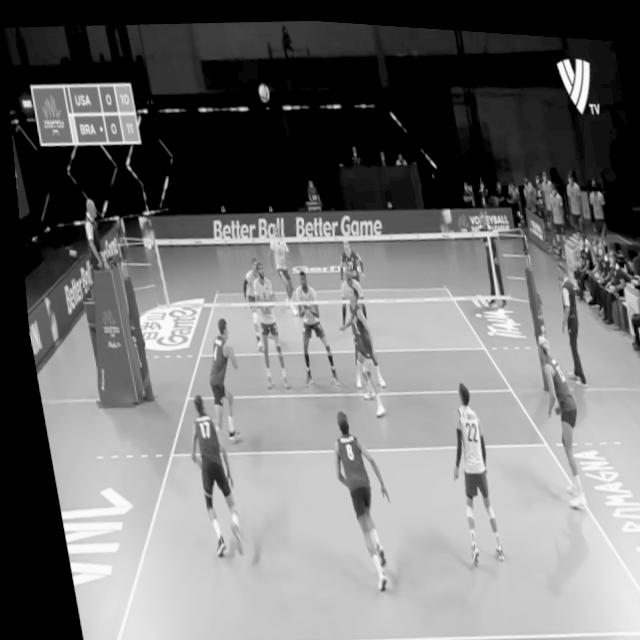player: (319, 403, 390, 588), (431, 377, 500, 562), (174, 386, 239, 558), (327, 278, 382, 413), (230, 252, 283, 386), (192, 311, 242, 438), (284, 265, 335, 383), (259, 217, 301, 321), (325, 257, 366, 335), (328, 234, 365, 281)
